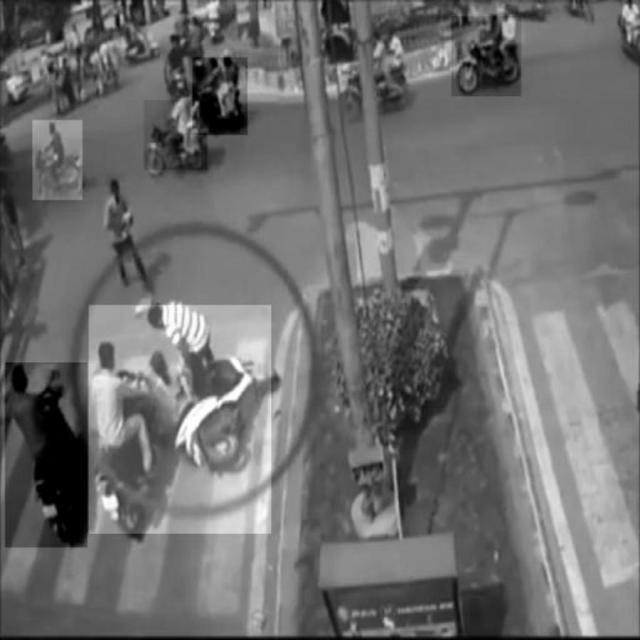accident: (90, 305, 272, 533)
vehicle: (6, 362, 88, 548), (452, 16, 522, 96), (144, 100, 208, 171), (192, 58, 247, 135), (33, 120, 83, 200)
